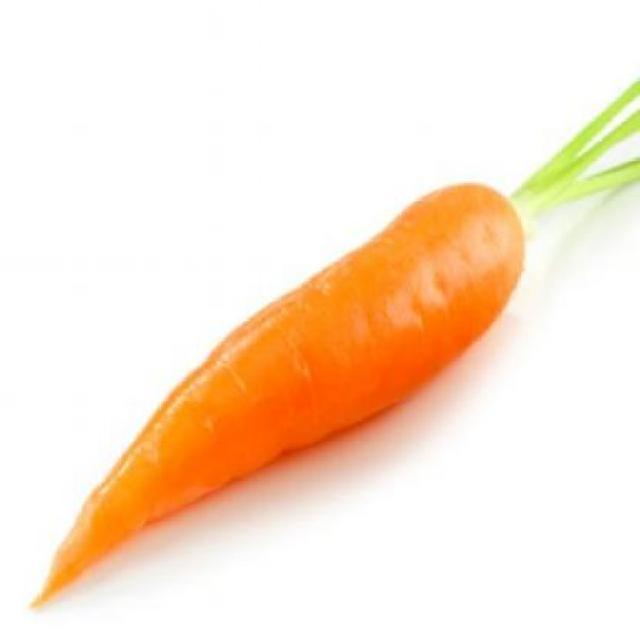carrot: (24, 169, 530, 627)
